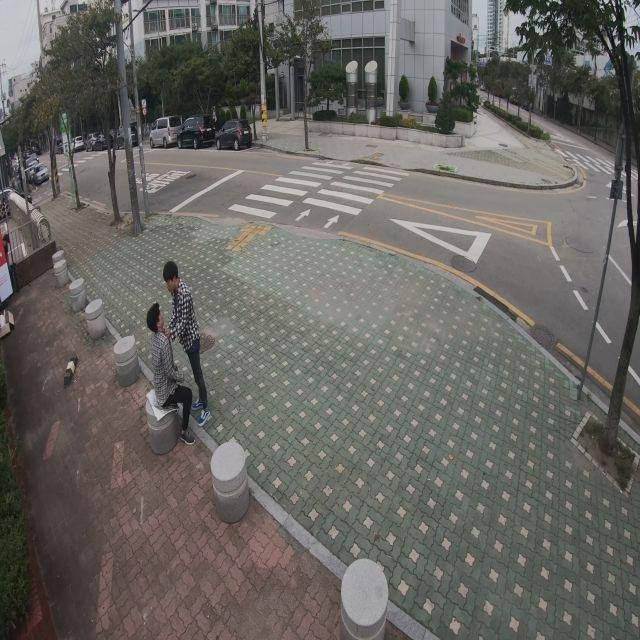fight: (145, 258, 211, 447)
